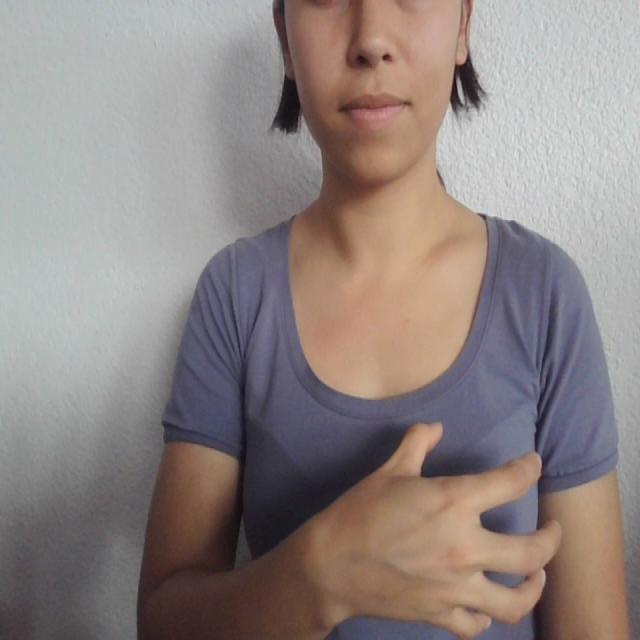Anne: (222, 404, 585, 640)
